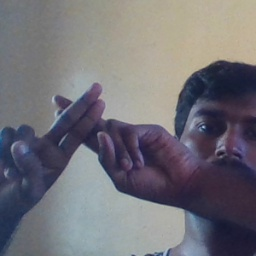F: (24, 76, 145, 187)
